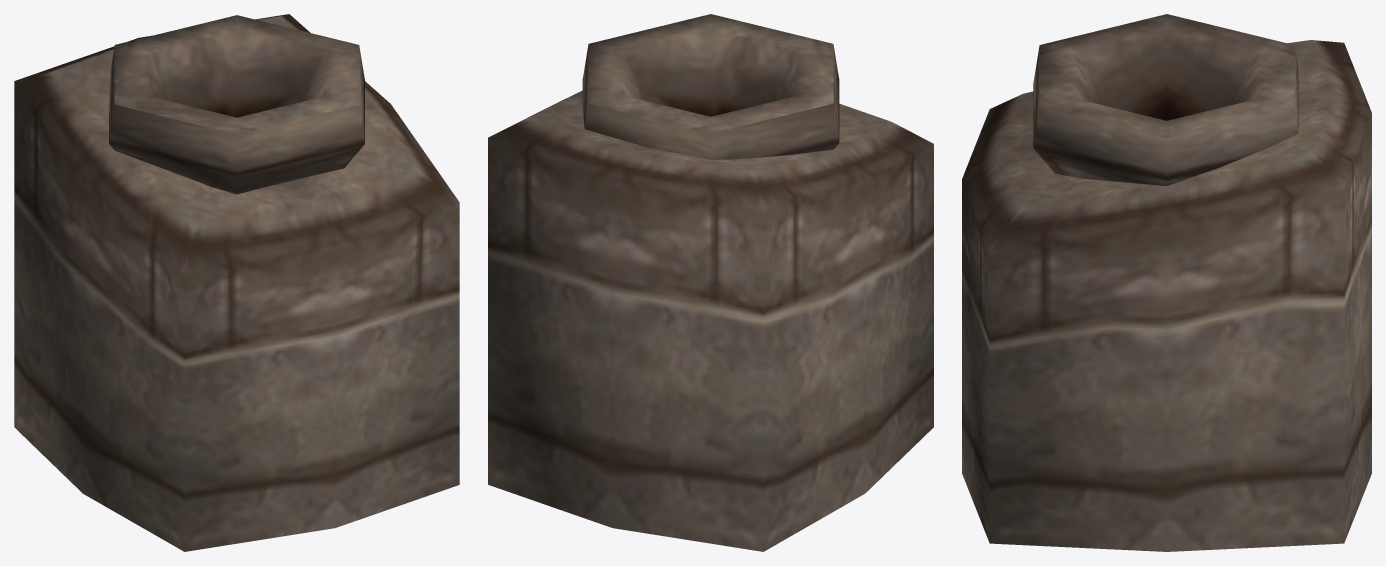
File: rysd_huopei_01.FBX
3 views of the same model, side by side, from view 1: azimuth 30°, elevation 25°; view 2: azimuth 150°, elevation 25°; view 3: azimuth 270°, elevation 25° (orthographic). The views are drawn at different scales.
Visible parts, largest first — view 1: dengtai; view 2: dengtai; view 3: dengtai.
Boxes of the visible parts, bbox=[...] form: dengtai: bbox=[14, 14, 459, 551]; dengtai: bbox=[488, 14, 933, 551]; dengtai: bbox=[962, 14, 1371, 551].
Size of the model in its own units: 72.35 by 85.65 by 80.02.
